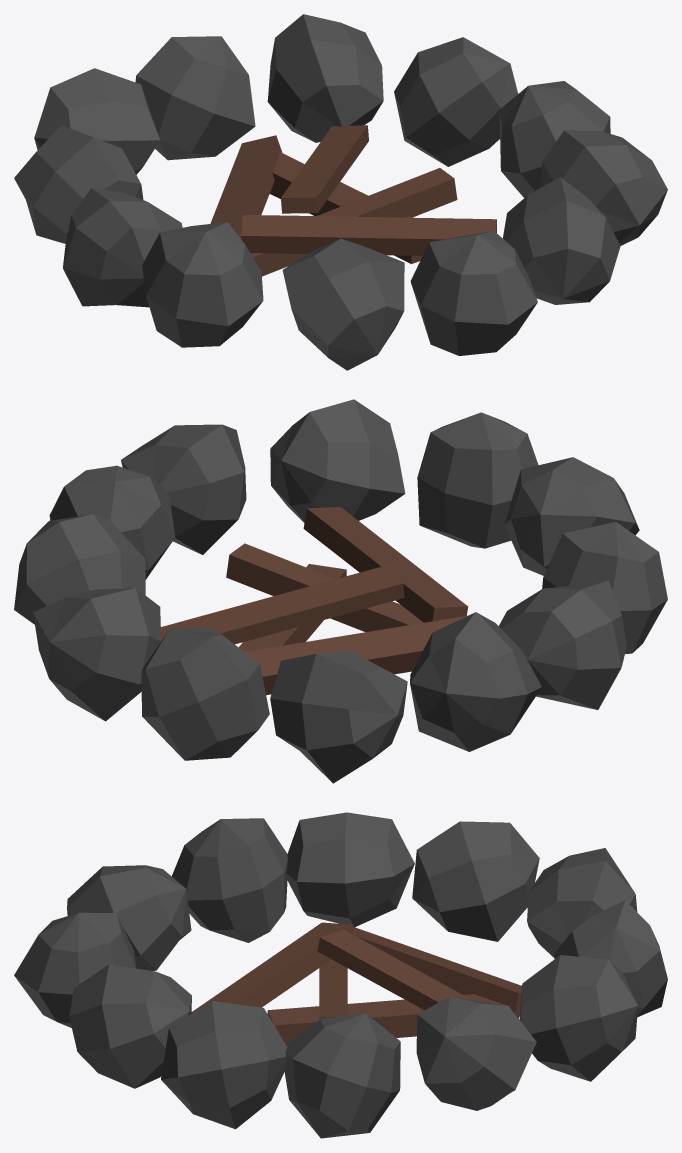
File: fireplace.gltf
3 views of the same model, one above another, from view 1: azimuth 30°, elevation 25°; view 2: azimuth 150°, elevation 25°; view 3: azimuth 270°, elevation 25° (orthographic). The views are drawn at different scales.
Visible parts, largest first — view 1: Sphere.004, Cube.004; view 2: Sphere.004, Cube.004; view 3: Sphere.004, Cube.004.
Part boxes in pixels (bbox=[...]): Sphere.004: bbox=[14, 14, 667, 370]; Cube.004: bbox=[210, 125, 496, 276]; Sphere.004: bbox=[14, 399, 667, 783]; Cube.004: bbox=[161, 507, 468, 695]; Sphere.004: bbox=[14, 812, 667, 1138]; Cube.004: bbox=[191, 922, 521, 1044].
Bounding box in the file's own units: 0.8566 × 0.1879 × 0.9163.
